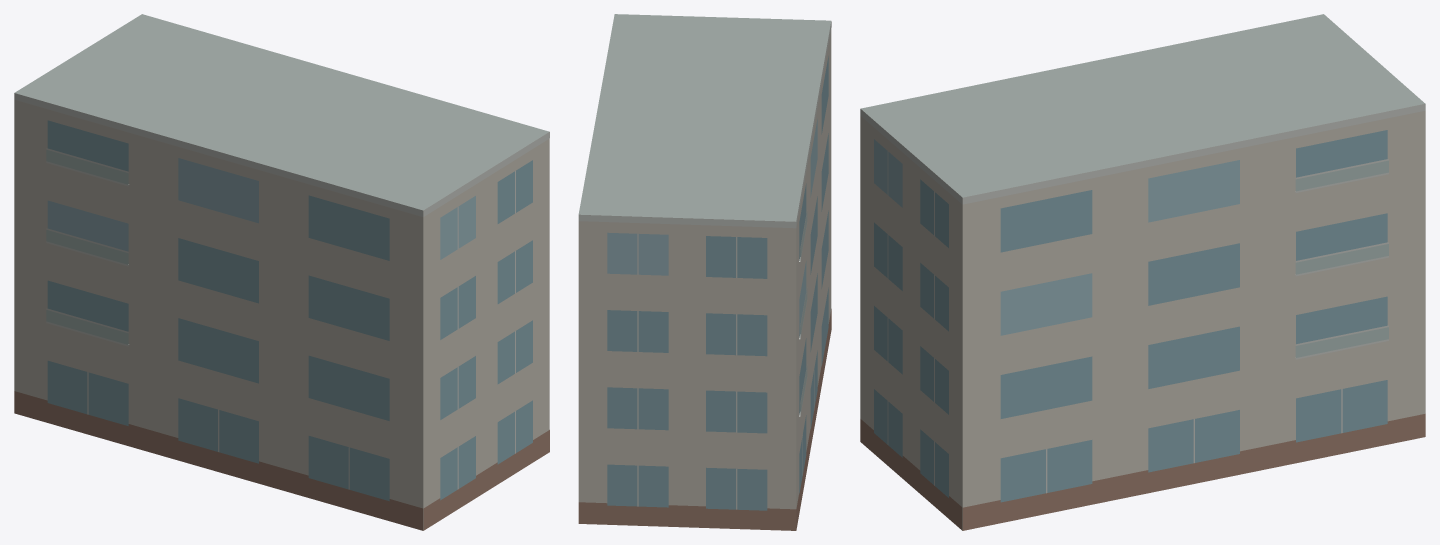
The model's file is survey-upis-33027682.glb.
3 views of the same model, side by side, from view 1: azimuth 30°, elevation 25°; view 2: azimuth 150°, elevation 25°; view 3: azimuth 270°, elevation 25° (orthographic). The views are drawn at different scales.
Visible parts, largest first — view 1: survey-upis-33027682.tmp; view 2: survey-upis-33027682.tmp; view 3: survey-upis-33027682.tmp.
Boxes of the visible parts, x1,y1,x2,y2 form: survey-upis-33027682.tmp: [14, 14, 549, 530]; survey-upis-33027682.tmp: [578, 14, 831, 530]; survey-upis-33027682.tmp: [860, 14, 1425, 530].
Bounding box in the file's own units: 13.84 × 11.7 × 17.99.
